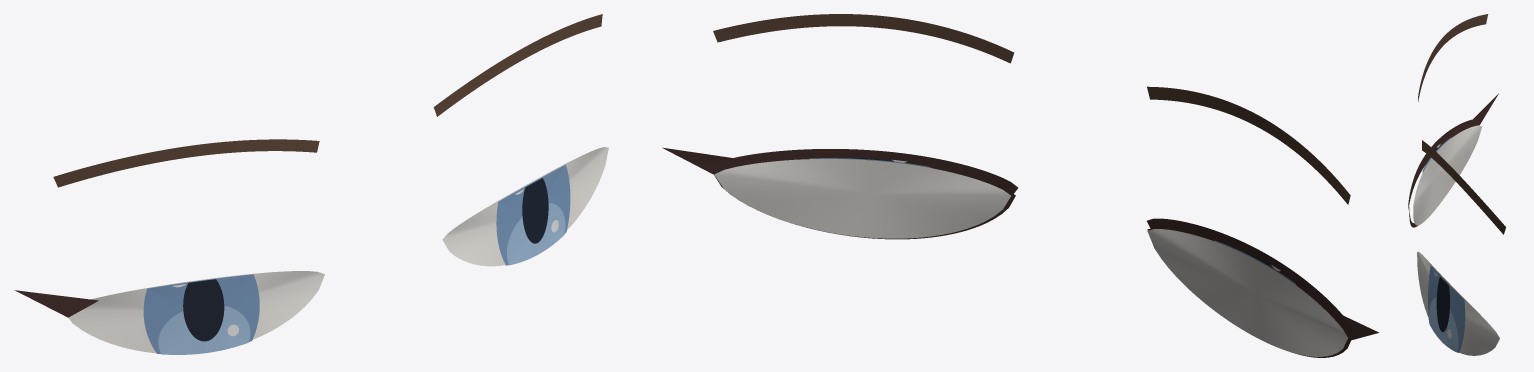
The model's file is male_eyes_ref05.glb.
3 renders of one model, left to right at view 1: azimuth 30°, elevation 25°; view 2: azimuth 150°, elevation 25°; view 3: azimuth 270°, elevation 25°, orthographic. The views are drawn at different scales.
Parts seen in each view (by area): view 1: Eye_White_-1, Eye_White_1, Eye_Iris_-1, Eyebrow_-1, Eye_Iris_Light_-1, Eye_Iris_1, Eye_Pupil_-1, Eyebrow_1, Eye_Iris_Light_1, Eye_Pupil_1, Eye_LashWing_-1; view 2: Eye_White_1, Eye_White_-1, Eyebrow_1, Eye_UpperLid_1, Eyebrow_-1, Eye_UpperLid_-1, Eye_LashWing_1; view 3: Eye_White_-1, Eye_White_1, Eye_Iris_1, Eyebrow_1, Eye_Iris_Light_1, Eyebrow_-1, Eye_UpperLid_-1, Eye_Pupil_1, Eye_LashWing_-1.
Boxes of the visible parts, left/top/right/bottom form: Eye_White_-1: left=68, top=271, right=324, bottom=353; Eye_White_1: left=442, top=147, right=608, bottom=266; Eye_Iris_-1: left=143, top=274, right=259, bottom=354; Eyebrow_-1: left=53, top=139, right=319, bottom=187; Eye_Iris_Light_-1: left=158, top=305, right=250, bottom=354; Eye_Iris_1: left=496, top=164, right=570, bottom=265; Eye_Pupil_-1: left=183, top=279, right=224, bottom=341; Eyebrow_1: left=433, top=14, right=602, bottom=116; Eye_Iris_Light_1: left=507, top=203, right=565, bottom=265; Eye_Pupil_1: left=522, top=178, right=548, bottom=243; Eye_LashWing_-1: left=14, top=290, right=98, bottom=317; Eye_White_1: left=714, top=159, right=1010, bottom=238; Eye_White_-1: left=1147, top=229, right=1347, bottom=356; Eyebrow_1: left=713, top=14, right=1014, bottom=63; Eye_UpperLid_1: left=712, top=149, right=1018, bottom=194; Eyebrow_-1: left=1147, top=86, right=1350, bottom=204; Eye_UpperLid_-1: left=1147, top=218, right=1353, bottom=336; Eye_LashWing_1: left=662, top=147, right=733, bottom=174; Eye_White_-1: left=1413, top=125, right=1482, bottom=225; Eye_White_1: left=1417, top=251, right=1499, bottom=355; Eye_Iris_1: left=1428, top=265, right=1465, bottom=352; Eyebrow_1: left=1422, top=140, right=1505, bottom=234; Eye_Iris_Light_1: left=1429, top=297, right=1458, bottom=352; Eyebrow_-1: left=1418, top=14, right=1488, bottom=101; Eye_UpperLid_-1: left=1408, top=119, right=1479, bottom=209; Eye_Pupil_1: left=1436, top=277, right=1449, bottom=332; Eye_LashWing_-1: left=1473, top=93, right=1498, bottom=125.
Size of the model in its own units: 0.4435 by 0.1467 by 0.081.
